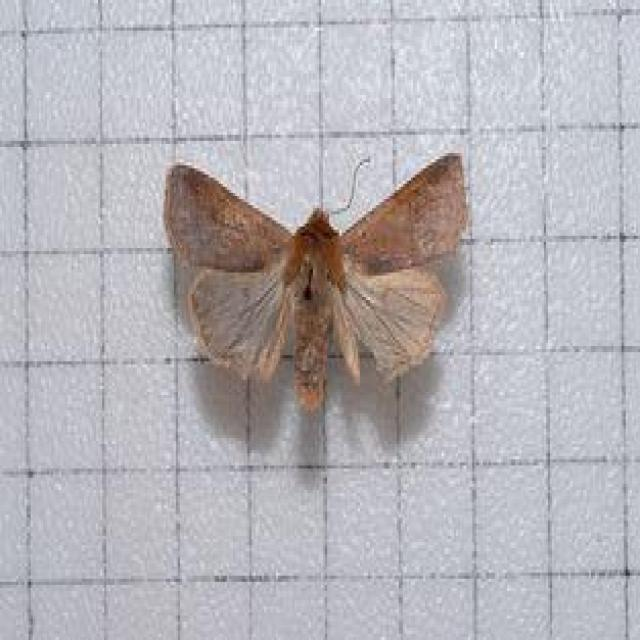BeetArmyWorm-Adult-: (146, 140, 493, 439)
